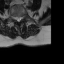CCS_normal: (17, 14, 19, 23)
LFS_normal: (21, 14, 23, 21)
LLS_normal: (19, 14, 21, 22)
RFS_normal: (13, 14, 15, 21)
RLS_normal: (15, 14, 17, 22)
